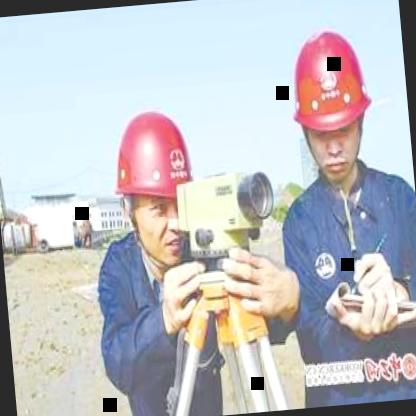helmet: (274, 8, 384, 196), (98, 91, 199, 278)
